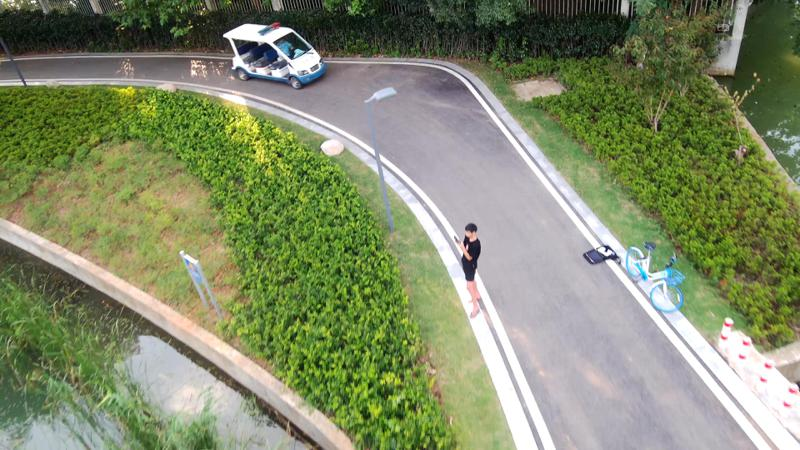passerby: (456, 222, 483, 321)
